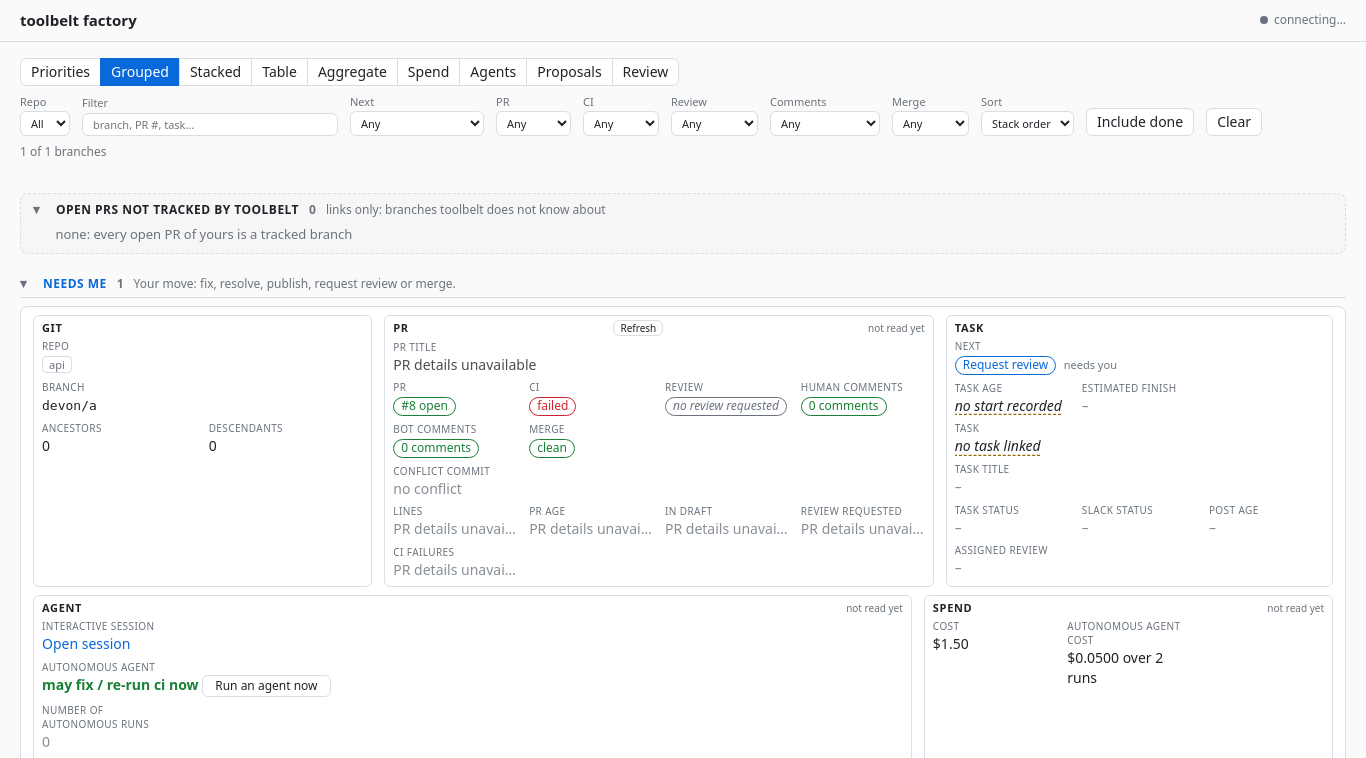
a card's agent and spend slots › the run button says it is starting while the request is on its way
Click the button "Run an agent now": (266, 686) [202,674,330,697]
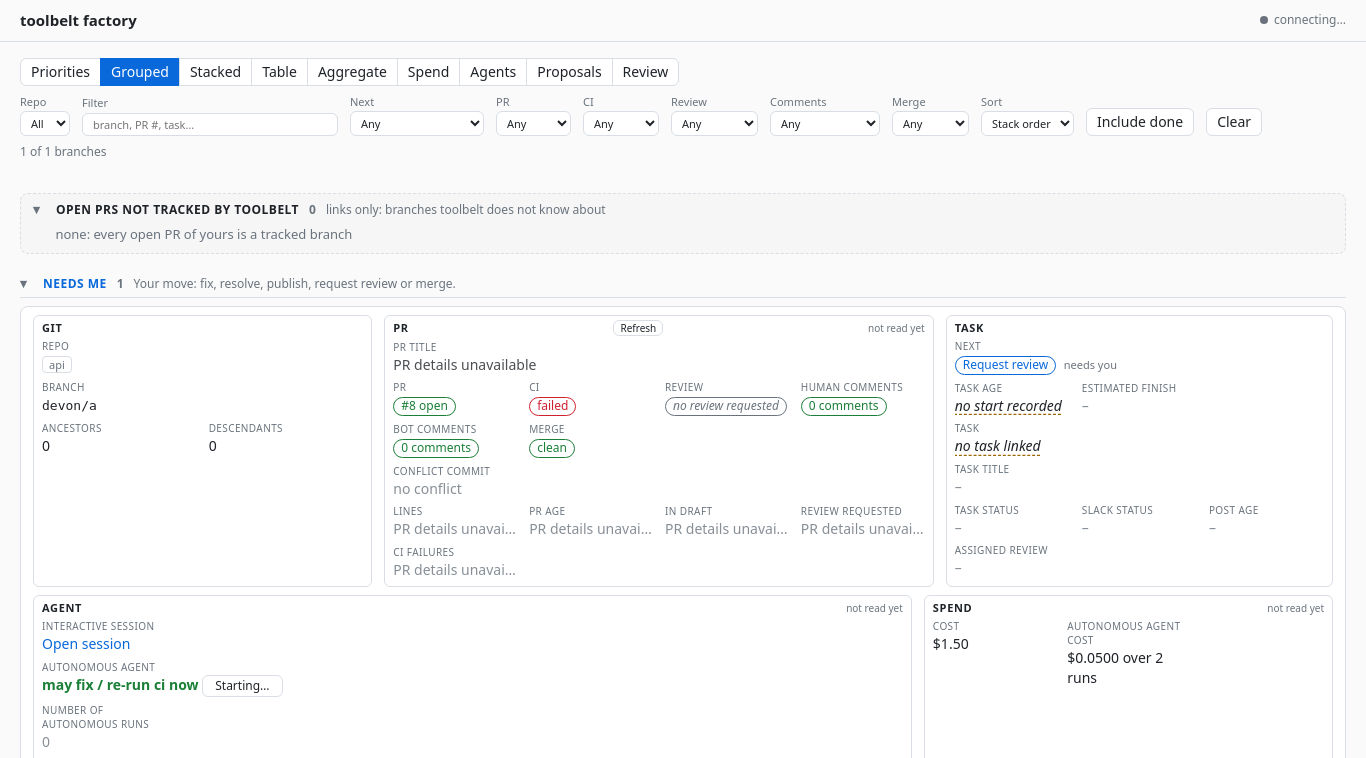
Expected: the button "Starting…" is disabled, [202,674,282,697]
